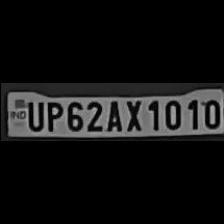0: (198, 97, 222, 129), (160, 98, 182, 130)
1: (182, 96, 200, 130), (143, 97, 161, 130)
2: (84, 98, 103, 132)
6: (62, 98, 82, 132)
A: (104, 98, 122, 132)
P: (43, 98, 61, 132)
U: (24, 99, 42, 131)
X: (123, 98, 143, 132)
